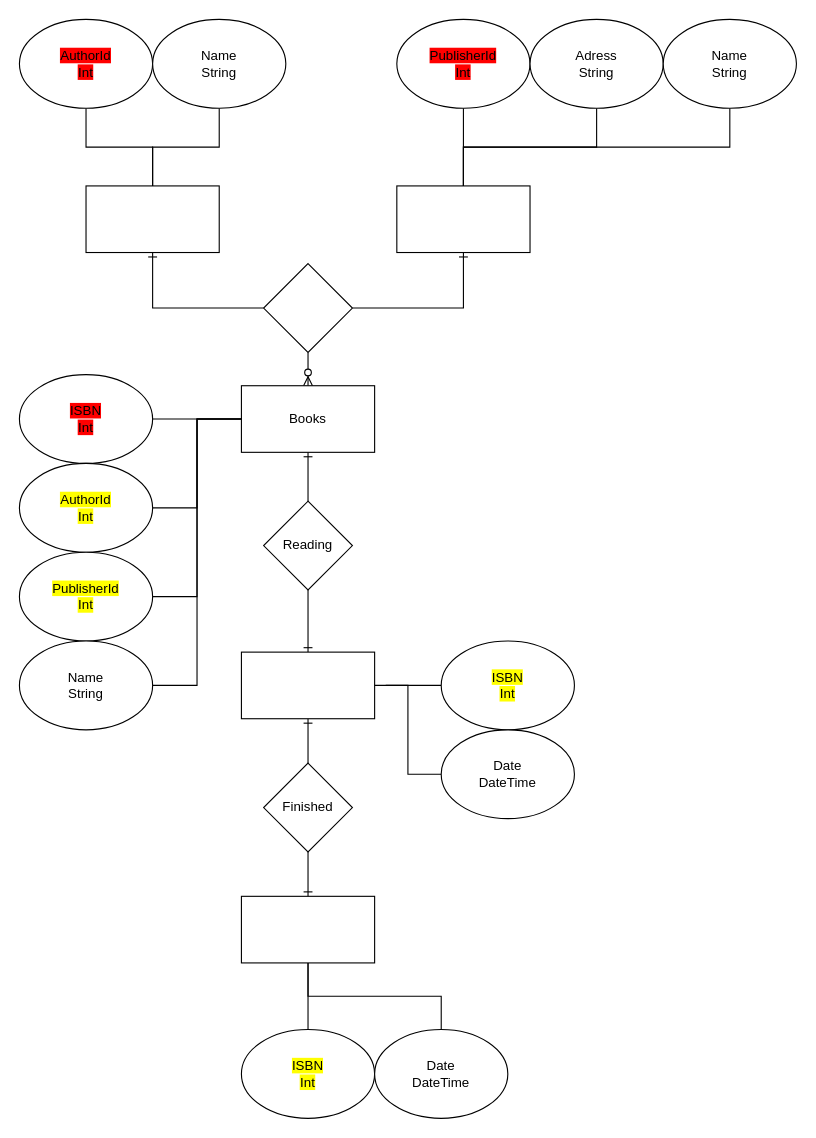
This 816x1138 diagram has some shape labels left out. Here are the shapes that lost their labels. From the top down, the centre of each, then its label:
At (152,219): "Author".
At (463,219): "Publisher".
At (307,307): "Contains".
At (307,685): "Active Books".
At (307,929): "Finished Books".
